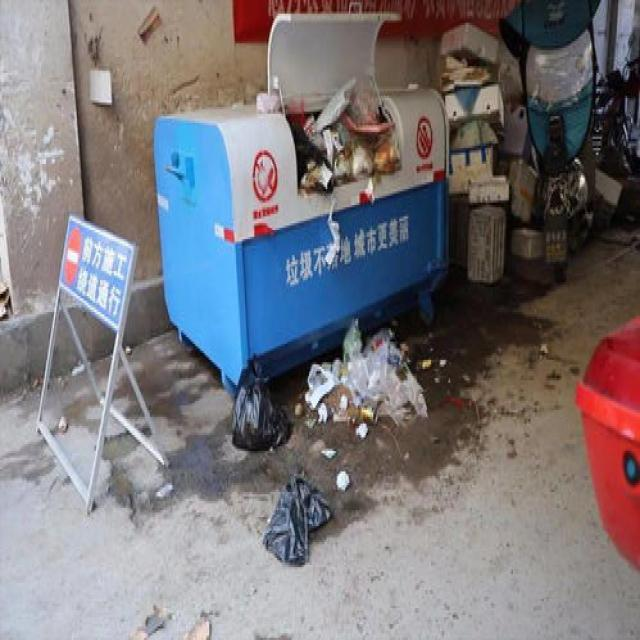garbage: (228, 316, 428, 565)
overflow: (150, 84, 445, 394)
